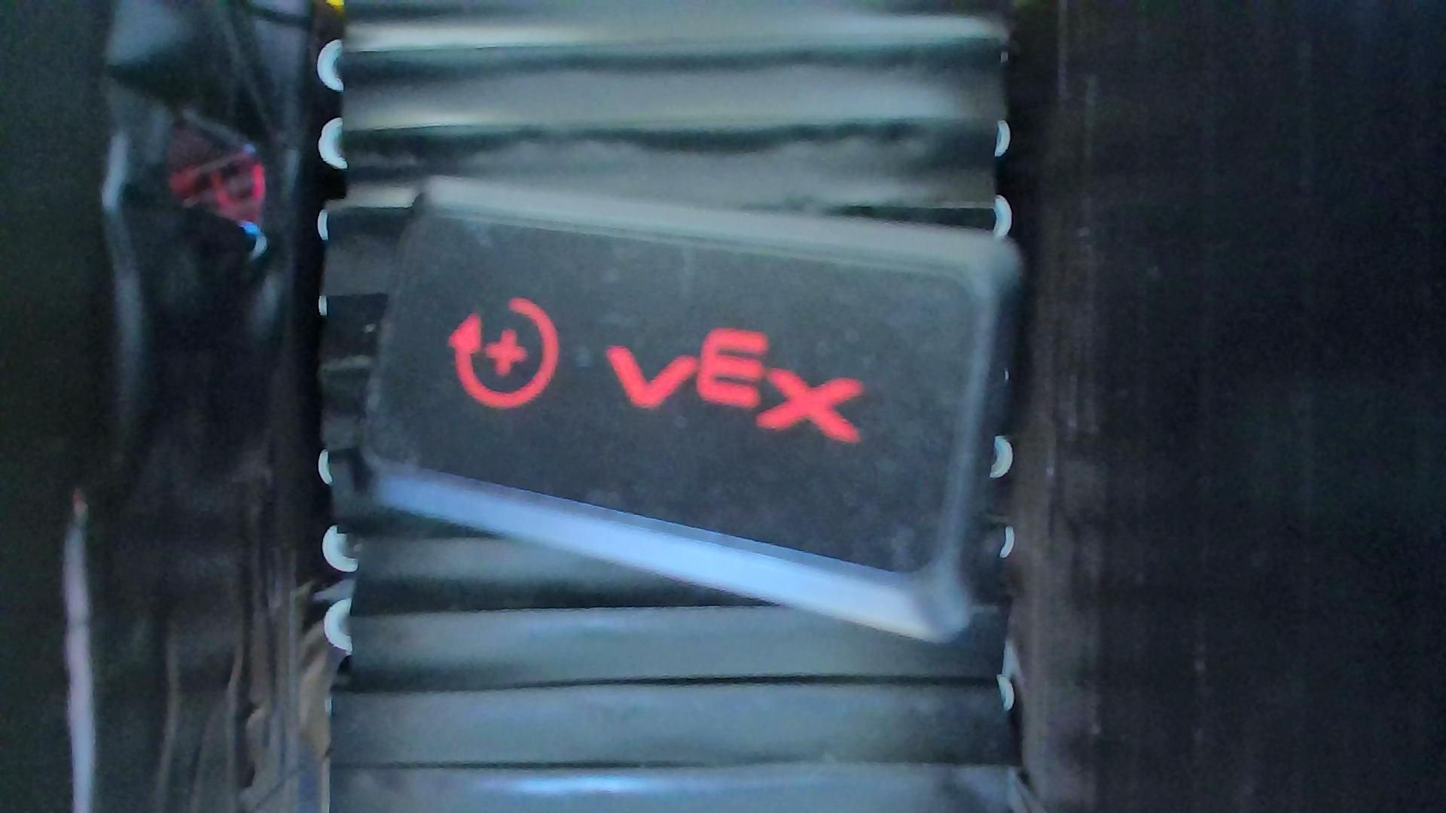motor: (349, 174, 1027, 645)
